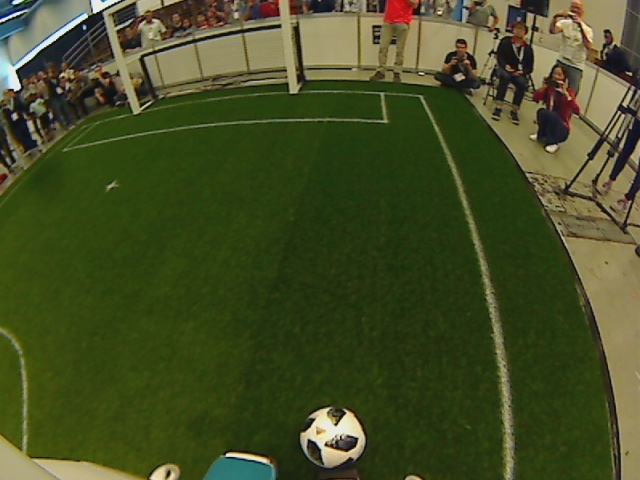ball: (297, 404, 367, 469)
